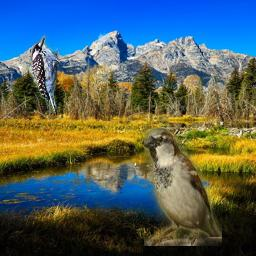Sparrow: (144, 128, 222, 246)
Woodpecker: (27, 33, 67, 121)
